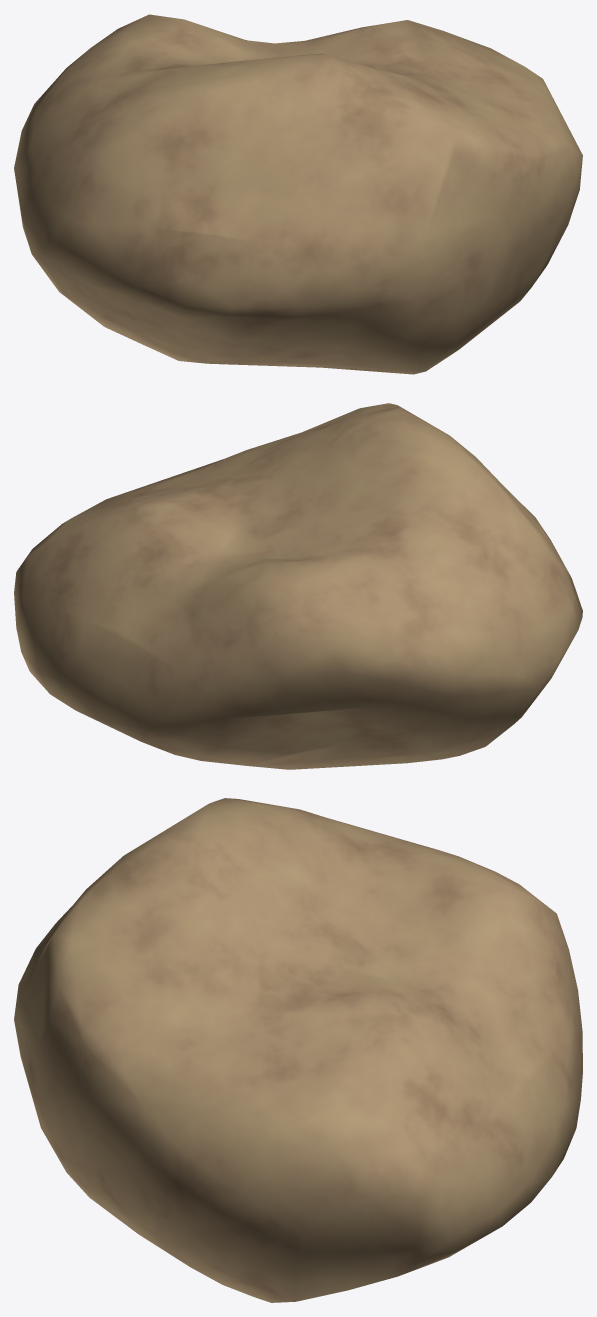
The model's file is Rock60x50x40.gltf.
The picture shows the model from 3 angles, top to bottom: view 1: azimuth 30°, elevation 25°; view 2: azimuth 150°, elevation 25°; view 3: azimuth 270°, elevation 25°; orthographic projection. The views are drawn at different scales.
Visible parts, largest first — view 1: Stein 60x50x40LowPoly; view 2: Stein 60x50x40LowPoly; view 3: Stein 60x50x40LowPoly.
Boxes of the visible parts, bbox=[...] form: Stein 60x50x40LowPoly: bbox=[14, 14, 582, 374]; Stein 60x50x40LowPoly: bbox=[14, 403, 582, 769]; Stein 60x50x40LowPoly: bbox=[14, 798, 582, 1302].
Size of the model in its own units: 0.6238 by 0.3781 by 0.5222.
1 material, 1 textured.
